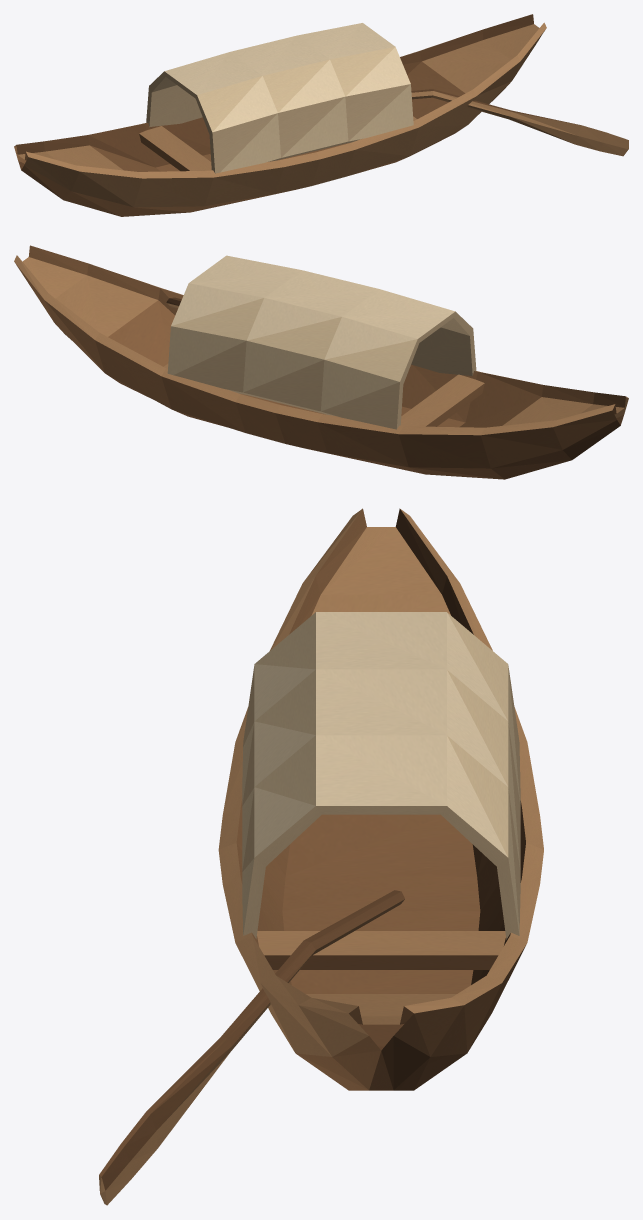
Rendered from 05_covered_wooden_boat.obj.
The picture shows the model from 3 angles, top to bottom: view 1: azimuth 30°, elevation 25°; view 2: azimuth 150°, elevation 25°; view 3: azimuth 270°, elevation 25°; orthographic projection. The views are drawn at different scales.
Visible parts, largest first — view 1: Boat_Hull, Boat_Canopy, Boat_Oar; view 2: Boat_Hull, Boat_Canopy; view 3: Boat_Hull, Boat_Canopy, Boat_Oar.
Part boxes in pixels (x1,y1,x2,y2): Boat_Hull: (14, 14, 546, 216); Boat_Canopy: (146, 23, 413, 173); Boat_Oar: (411, 89, 628, 156); Boat_Hull: (14, 245, 628, 479); Boat_Canopy: (167, 255, 476, 429); Boat_Hull: (218, 508, 543, 1090); Boat_Canopy: (242, 612, 520, 939); Boat_Oar: (99, 890, 404, 1205).
Bounding box in the file's own units: 3.03 × 0.658 × 1.09.
Materials: 1 (1 with a texture image).
